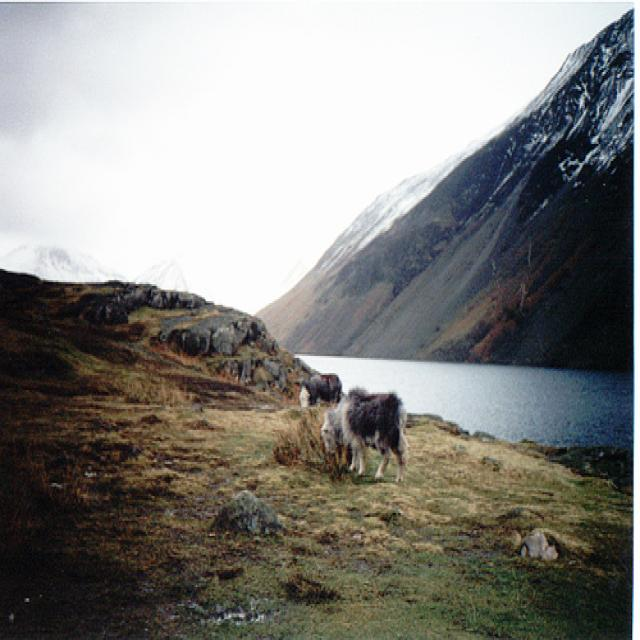cow: (322, 389, 408, 482), (297, 372, 343, 410)
